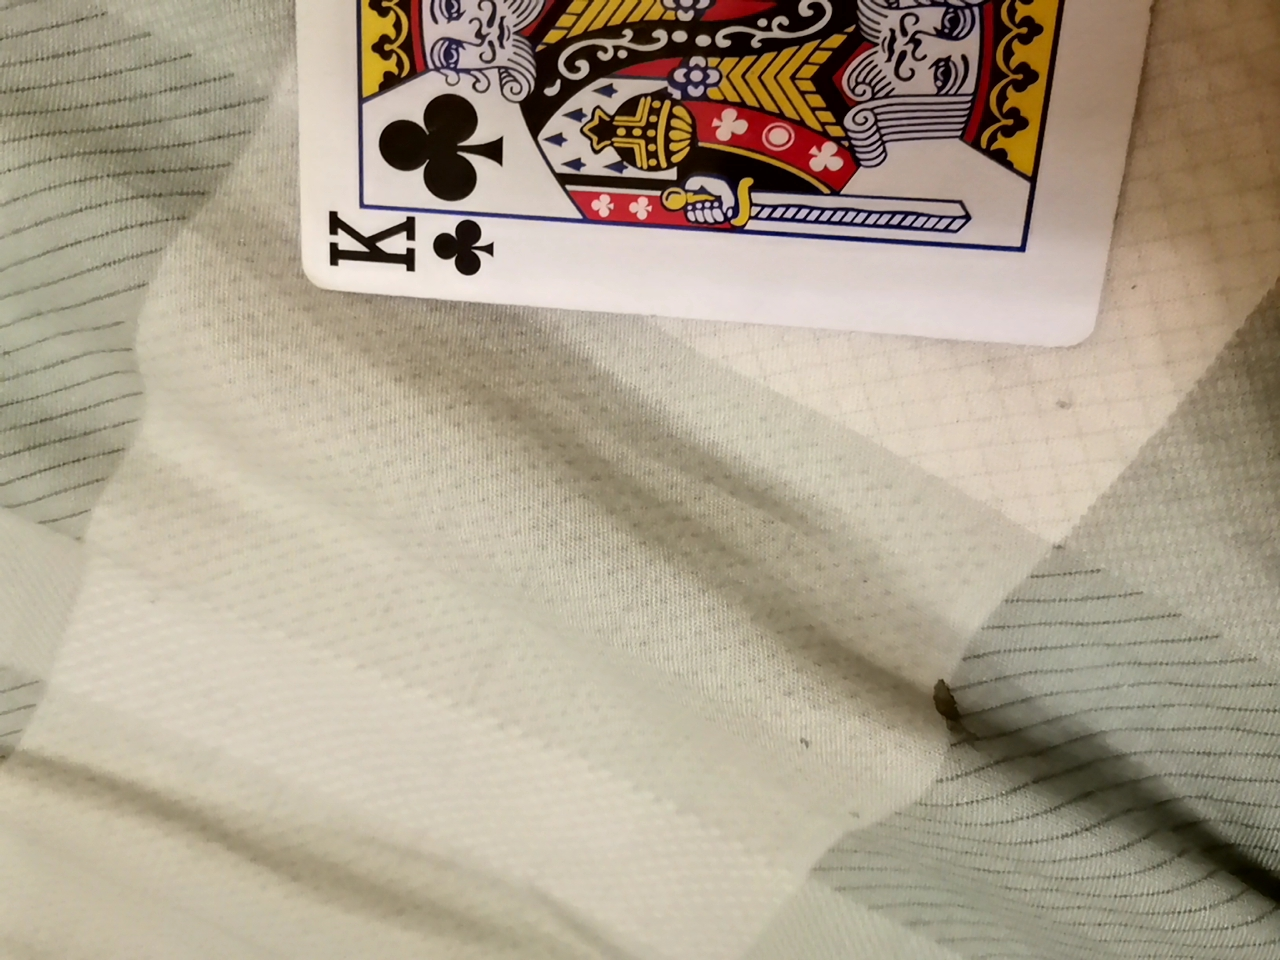mh k: (278, 0, 1165, 330)
